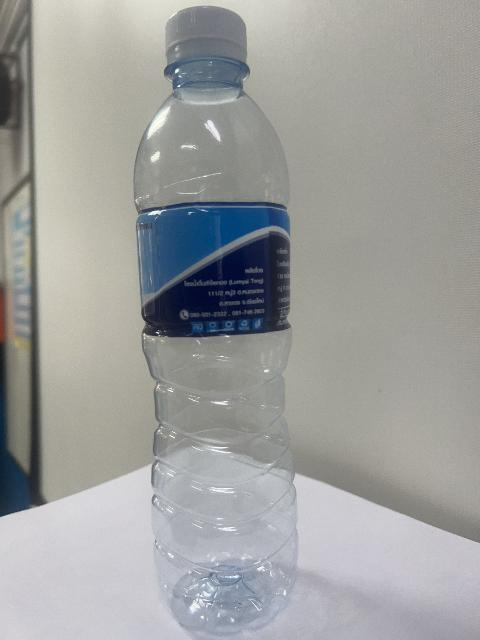bottle: (135, 7, 297, 634)
